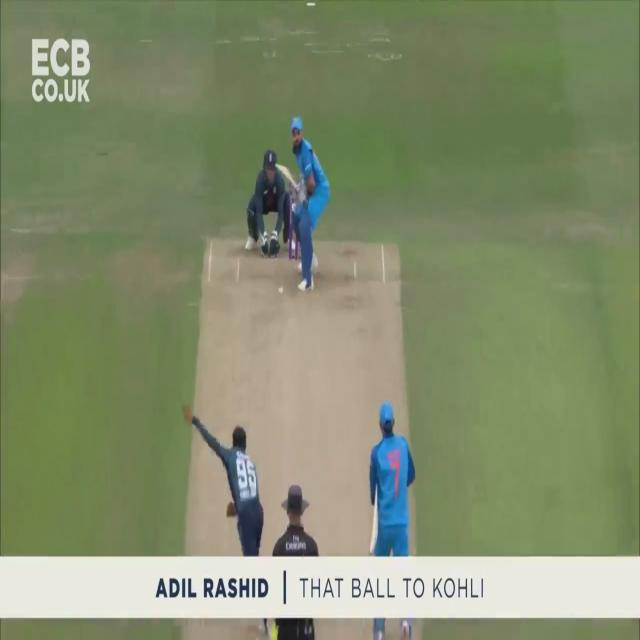cricketBall: (279, 288, 284, 294)
